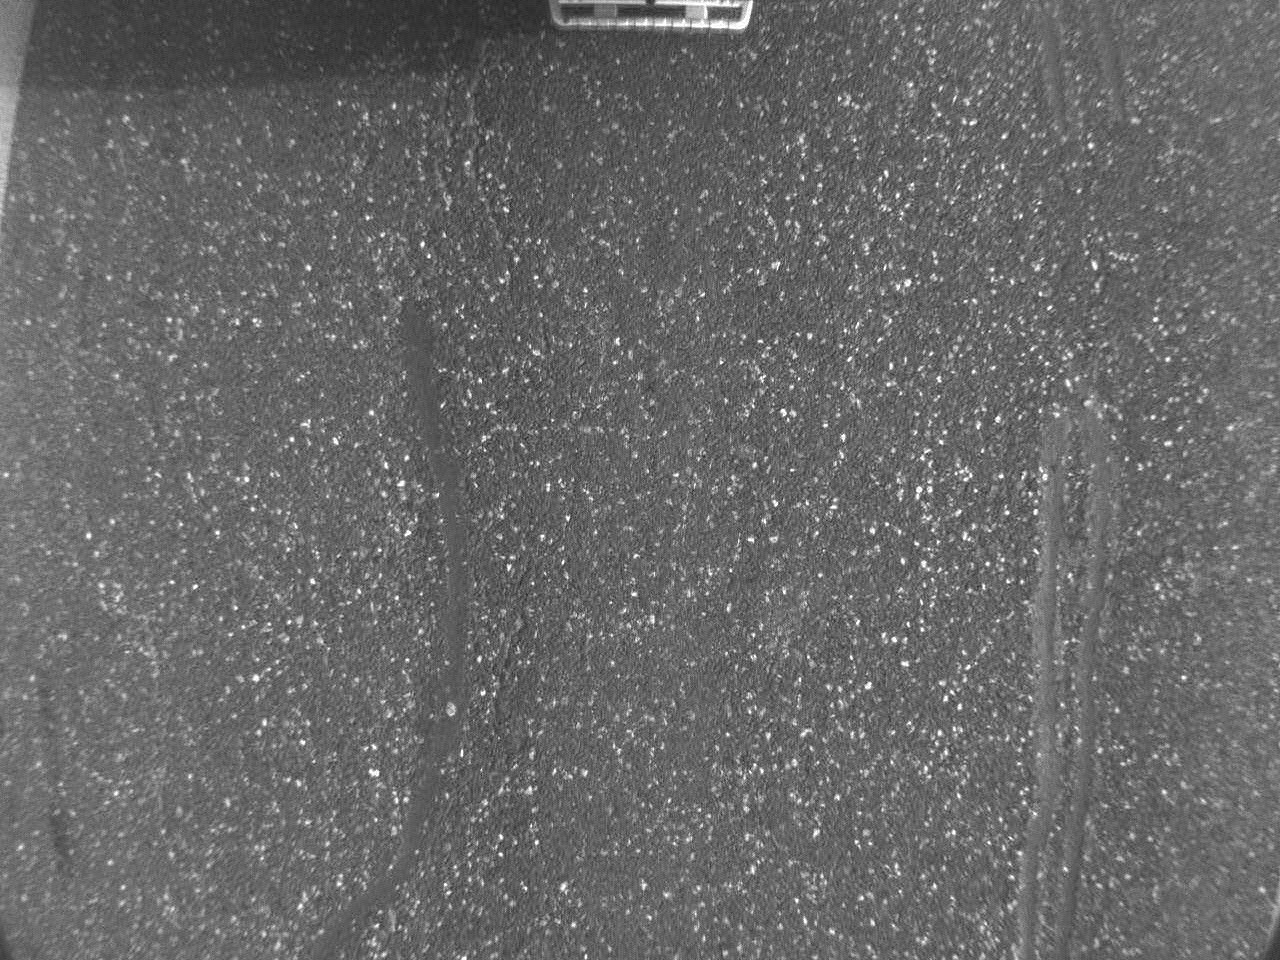alligator: (310, 250, 512, 940)
sealed: (1000, 392, 1134, 938)
